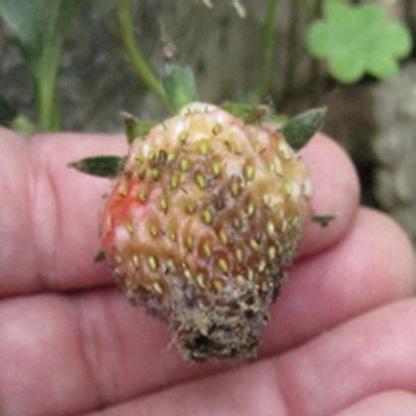Strawberry_Gray_Mold: (95, 100, 324, 365)
